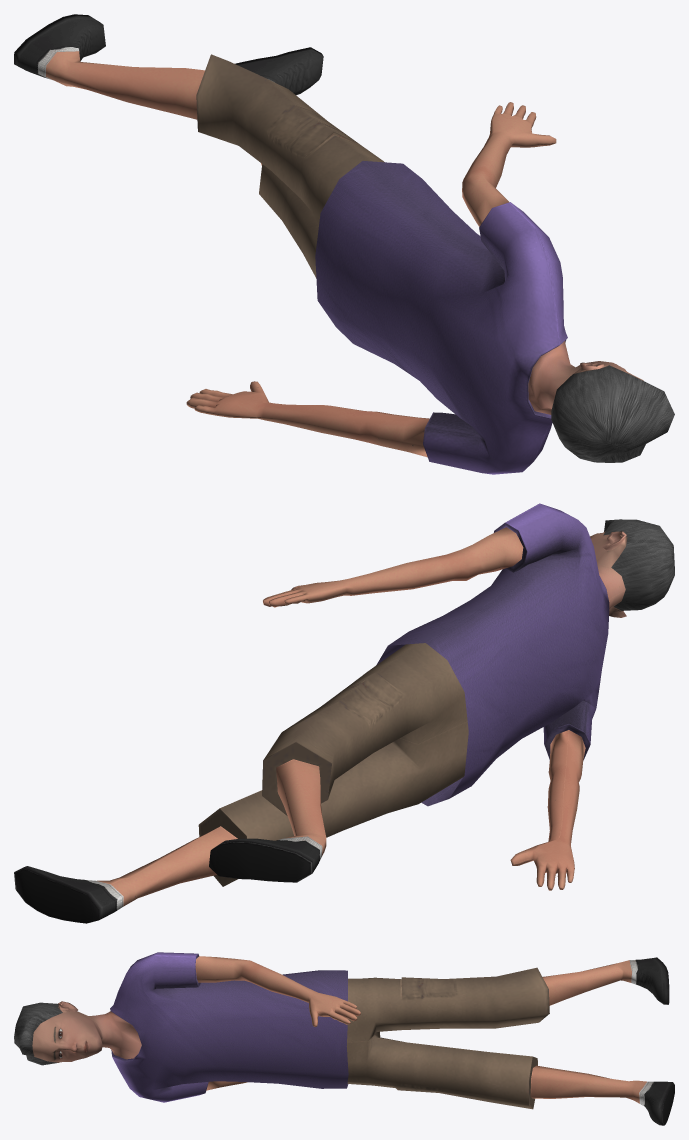
Rendered from walk.obj.
The picture shows the model from 3 angles, top to bottom: view 1: azimuth 30°, elevation 25°; view 2: azimuth 150°, elevation 25°; view 3: azimuth 270°, elevation 25°; orthographic projection. The views are drawn at different scales.
Bounding box in the file's own units: 0.7232 × 0.4812 × 1.75.
Materials: 1 (1 with a texture image).
